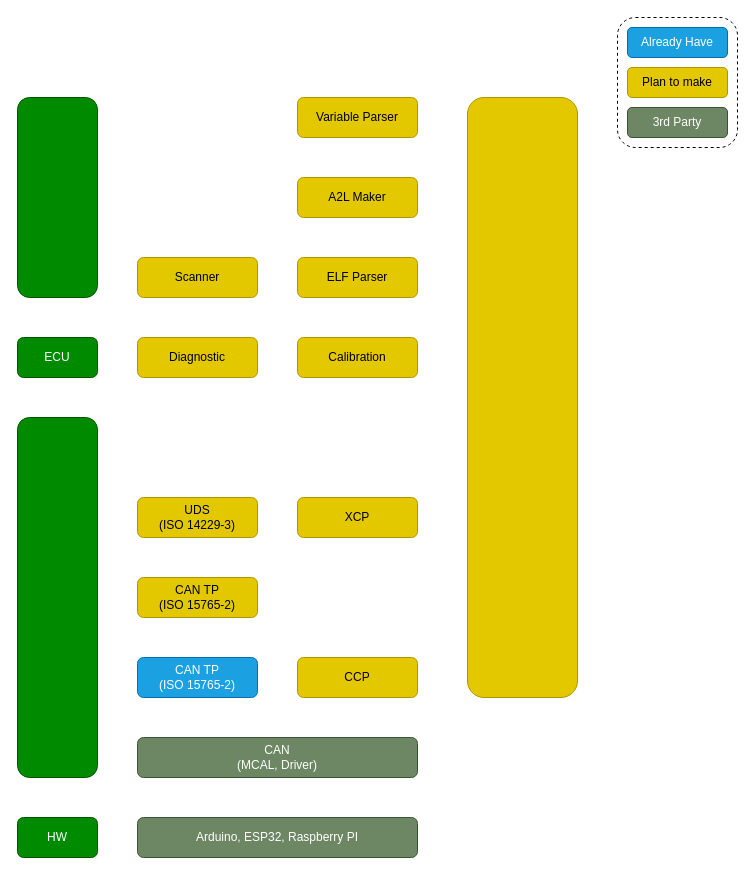
Image size: 755x875. Some labels were removed from this diagram. Here are the shapes that lost their labels. From the top down, the centre of each, then its label:
point 57,197: Validation / Verification
point 522,397: YYO-GEN-AI AI service to Support using YYO-tech's Solution (LLM wih RAG)
point 57,597: Platform
